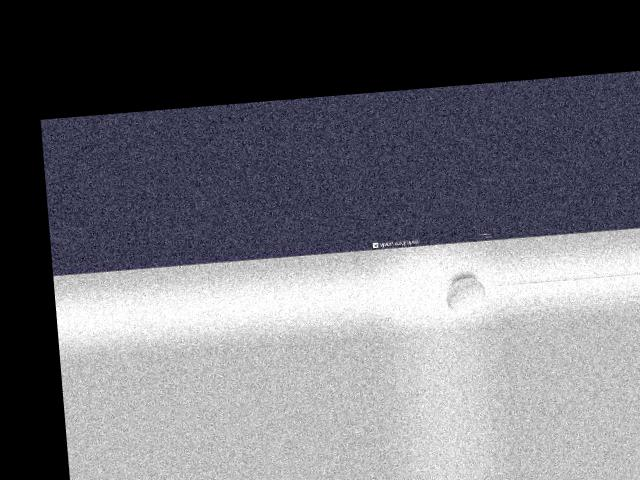egg: (445, 275, 487, 314)
